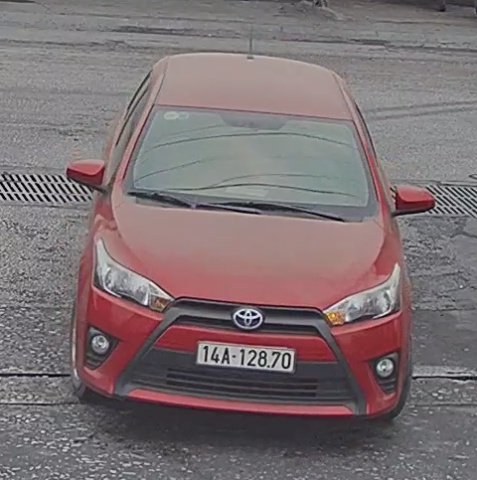vehicle plate: (190, 339, 304, 379)
